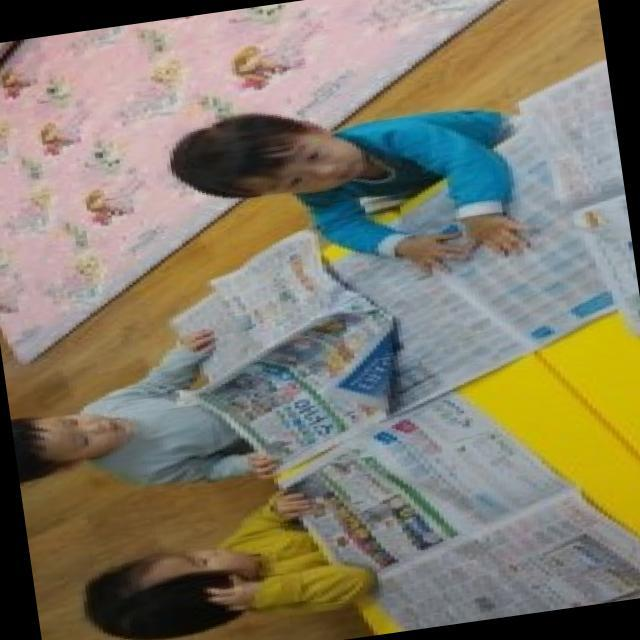reuseable_paper: (279, 356, 640, 638), (154, 243, 408, 465)
